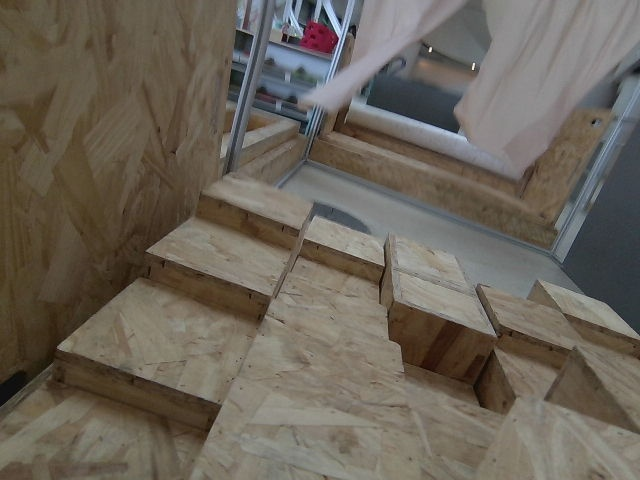curtain: (320, 0, 608, 144)
